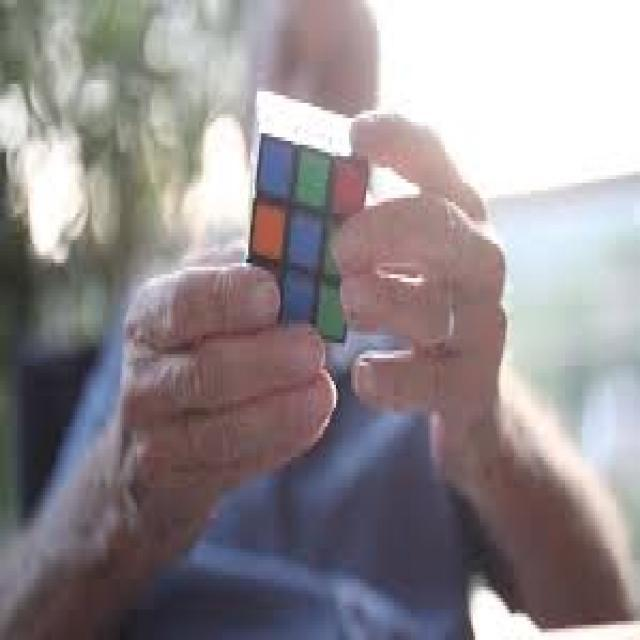Rub: (242, 88, 382, 345)
